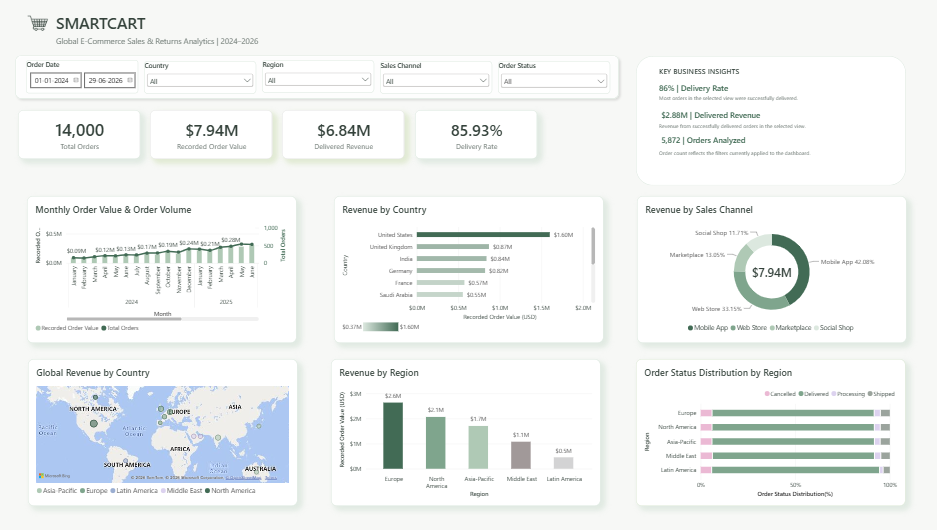

The dashboard page shown, as its layout file describes it:
{"tool":"powerbi","page":{"name":"Sales Overview","canvas":[1920,1080],"ordinal":0},"visuals":[{"type":"textbox","box":[117.5,72.5,432.5,32.5],"z":0},{"type":"textbox","box":[117.5,25,215.8,50],"z":1000},{"type":"shape","box":[26.9,104.5,1249.3,106],"z":2000},{"type":"slicer","title":"Order Date","fields":{"Values":["orders_clean.order_date_corrected"]},"box":[57.7,123.1,229.5,67.9],"z":3000},{"type":"slicer","title":"Country","fields":{"Values":["orders_clean.shipping_country"]},"box":[298,124.4,229,67],"z":4000},{"type":"slicer","title":"Region","fields":{"Values":["orders_clean.shipping_region"]},"box":[539,123.1,229,67],"z":5000},{"type":"slicer","title":"Sales Channel","fields":{"Values":["orders_clean.sales_channel"]},"box":[780,124.4,229,67],"z":6000},{"type":"slicer","title":"Order Status","fields":{"Values":["orders_clean.order_status"]},"box":[1021,124.4,229,67],"z":7000},{"type":"cardVisual","fields":{"Data":["SmartCart Measures.Total Orders"]},"box":[40,225,250,100],"z":8000},{"type":"cardVisual","fields":{"Data":["SmartCart Measures.Recorded Order Value"]},"box":[310,225,250,100],"z":9000},{"type":"cardVisual","fields":{"Data":["SmartCart Measures.Delivered Revenue"]},"box":[580,225,250,100],"z":10000},{"type":"cardVisual","fields":{"Data":["SmartCart Measures.Delivery Rate"]},"box":[850,225,250,100],"z":11000},{"type":"clusteredBarChart","title":"Revenue by Country","fields":{"Category":["orders_clean.shipping_country"],"Y":["SmartCart Measures.Recorded Order Value"]},"box":[685,400,550,300],"z":12000},{"type":"donutChart","title":"Revenue by Sales Channel","fields":{"Category":["orders_clean.sales_channel"],"Y":["SmartCart Measures.Recorded Order Value"]},"box":[1303.2,400,550,300],"z":13000},{"type":"map","title":"Global Revenue by Country","fields":{"Category":["orders_clean.shipping_country"],"Series":["orders_clean.shipping_region"],"Size":["SmartCart Measures.Recorded Order Value"]},"box":[61.1,733.3,550,300],"z":14000},{"type":"lineClusteredColumnComboChart","title":"Monthly Order Value & Order Volume","fields":{"Category":["orders_clean.order_date_corrected.Variation.Date Hierarchy.Year","orders_clean.order_date_corrected.Variation.Date Hierarchy.Month"],"Y":["SmartCart Measures.Recorded Order Value"],"Y2":["SmartCart Measures.Total Orders"]},"box":[60,400,550,300],"z":15000},{"type":"clusteredColumnChart","title":"Revenue by Region","fields":{"Category":["orders_clean.shipping_region"],"Y":["SmartCart Measures.Recorded Order Value"]},"box":[680,732.5,550,300],"z":16000},{"type":"hundredPercentStackedBarChart","title":"Order Status Distribution by Region","fields":{"Category":["orders_clean.shipping_region"],"Series":["orders_clean.order_status"],"Y":["SmartCart Measures.Total Orders"]},"box":[1303,732,550,300],"z":17000},{"type":"image","box":[45,22.5,72.5,50],"z":18000},{"type":"shape","box":[1303,114.9,550.7,264.2],"z":19000},{"type":"textbox","box":[1349.5,134,176.3,22.7],"z":20000},{"type":"textbox","box":[1349.5,169.1,149.5,22.7],"z":21000},{"type":"textbox","box":[1349.5,191.8,249.5,22.7],"z":22000},{"type":"textbox","box":[1349.5,189.7,299,24.7],"z":23000},{"type":"textbox","box":[1349.5,224.7,274.2,22.7],"z":24000},{"type":"textbox","box":[1349.5,247.4,353,25],"z":25000},{"type":"textbox","box":[1349.5,275.3,274,22],"z":26000},{"type":"textbox","box":[1349.5,301,456.7,47.4],"z":27000}]}

Visuals, with their boxes in screenshot pixels (x1, y1, x2, y2), scaled from the page's 1920x1080 canvas onto the 937x530 screenshot:
textbox: x1=57 y1=36 x2=268 y2=52
textbox: x1=57 y1=12 x2=163 y2=37
shape: x1=13 y1=51 x2=623 y2=103
"Order Date" slicer: x1=28 y1=60 x2=140 y2=94
"Country" slicer: x1=145 y1=61 x2=257 y2=94
"Region" slicer: x1=263 y1=60 x2=375 y2=93
"Sales Channel" slicer: x1=381 y1=61 x2=492 y2=94
"Order Status" slicer: x1=498 y1=61 x2=610 y2=94
cardVisual - SmartCart Measures.Total Orders: x1=20 y1=110 x2=142 y2=159
cardVisual - SmartCart Measures.Recorded Order Value: x1=151 y1=110 x2=273 y2=159
cardVisual - SmartCart Measures.Delivered Revenue: x1=283 y1=110 x2=405 y2=159
cardVisual - SmartCart Measures.Delivery Rate: x1=415 y1=110 x2=537 y2=159
"Revenue by Country" clusteredBarChart: x1=334 y1=196 x2=603 y2=344
"Revenue by Sales Channel" donutChart: x1=636 y1=196 x2=904 y2=344
"Global Revenue by Country" map: x1=30 y1=360 x2=298 y2=507
"Monthly Order Value & Order Volume" lineClusteredColumnComboChart: x1=29 y1=196 x2=298 y2=344
"Revenue by Region" clusteredColumnChart: x1=332 y1=359 x2=600 y2=507
"Order Status Distribution by Region" hundredPercentStackedBarChart: x1=636 y1=359 x2=904 y2=506
image: x1=22 y1=11 x2=57 y2=36
shape: x1=636 y1=56 x2=905 y2=186
textbox: x1=659 y1=66 x2=745 y2=77
textbox: x1=659 y1=83 x2=732 y2=94
textbox: x1=659 y1=94 x2=780 y2=105
textbox: x1=659 y1=93 x2=805 y2=105
textbox: x1=659 y1=110 x2=792 y2=121
textbox: x1=659 y1=121 x2=831 y2=134
textbox: x1=659 y1=135 x2=792 y2=146
textbox: x1=659 y1=148 x2=881 y2=171
